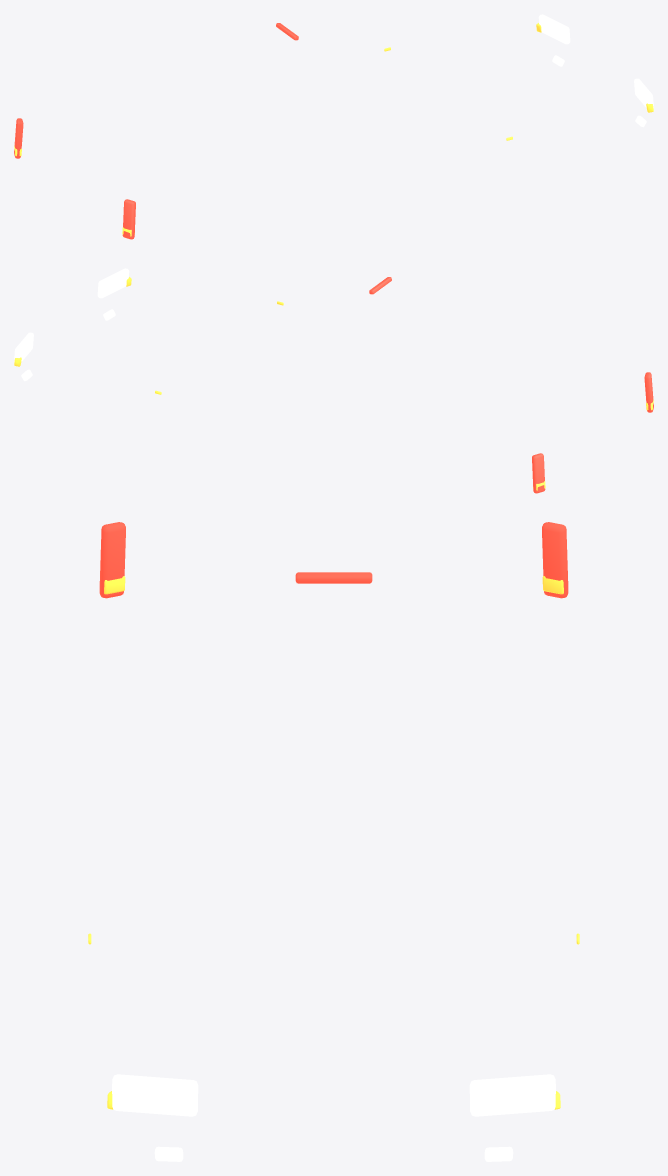
File: Lights.glb
3 renders of one model, top to bottom at view 1: azimuth 30°, elevation 25°; view 2: azimuth 150°, elevation 25°; view 3: azimuth 270°, elevation 25°, orthographic. The views are drawn at different scales.
Visible parts, largest first — view 1: Lights; view 2: Lights; view 3: Lights.
Part boxes in pixels (box(x1,y1,x2,y2)): Lights: box(14, 14, 653, 239); Lights: box(14, 268, 653, 493); Lights: box(88, 522, 579, 1161).
Bounding box in the file's own units: 4.84 × 1.22 × 1.92.
